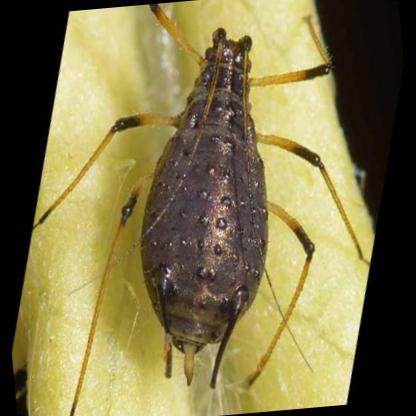uroleucon compositae: (117, 26, 330, 389)
